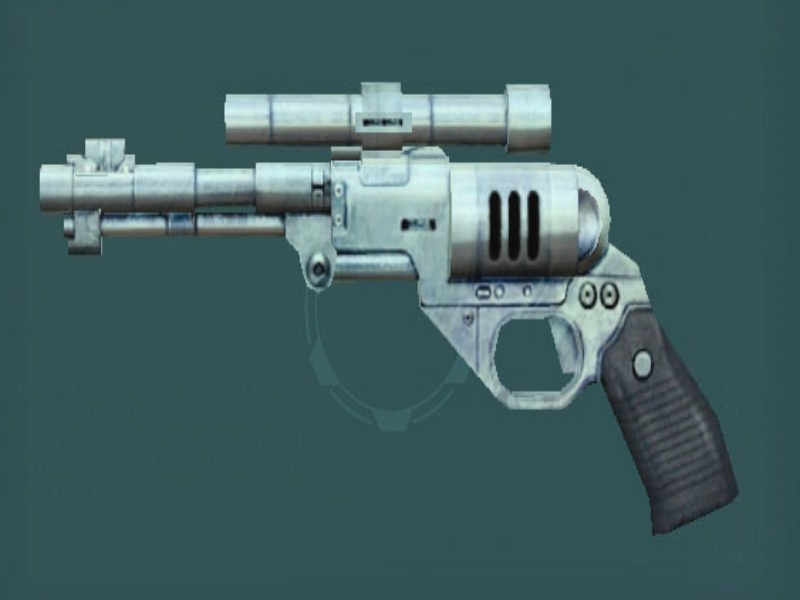gun: (23, 80, 752, 540)
